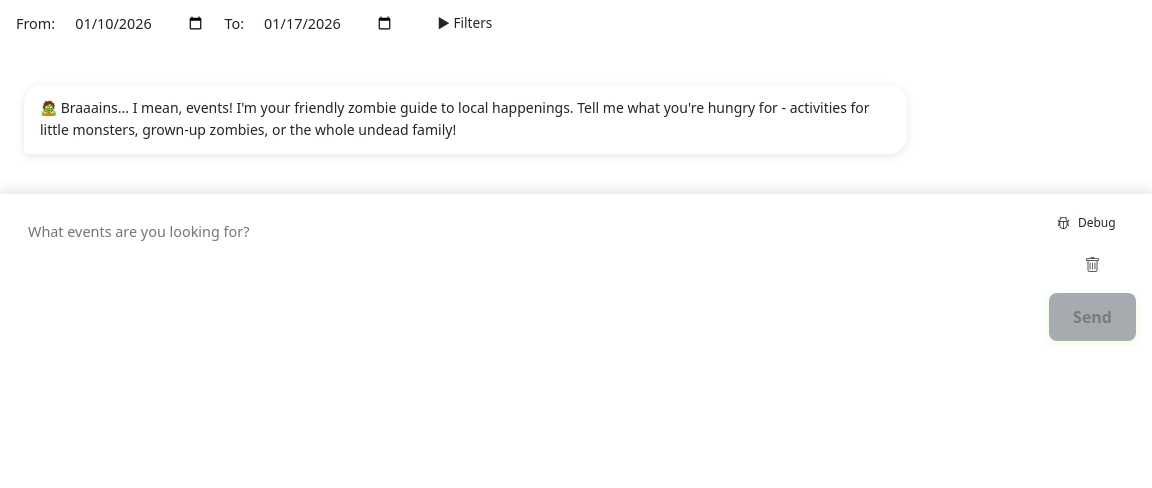
it: ChatInterface streaming fallback › shows error message when streaming fails
The width and height of the screenshot is (1152, 488).
Step 1. Type "hello" into the text box named "Message input" → [527, 275], box [16,210,1037,341]
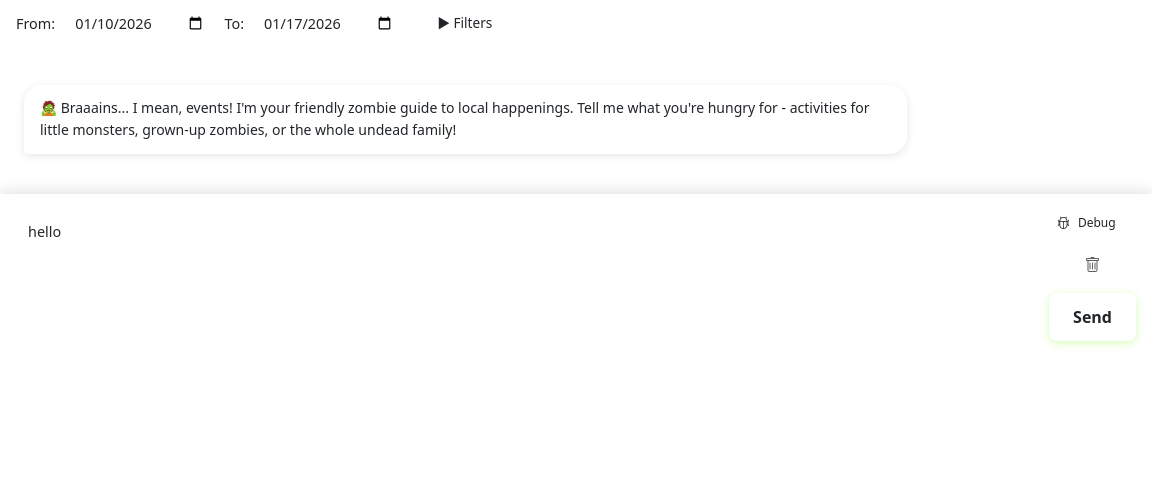
Step 2. Press Enter in the text box named "Message input", box [16,210,1037,341]
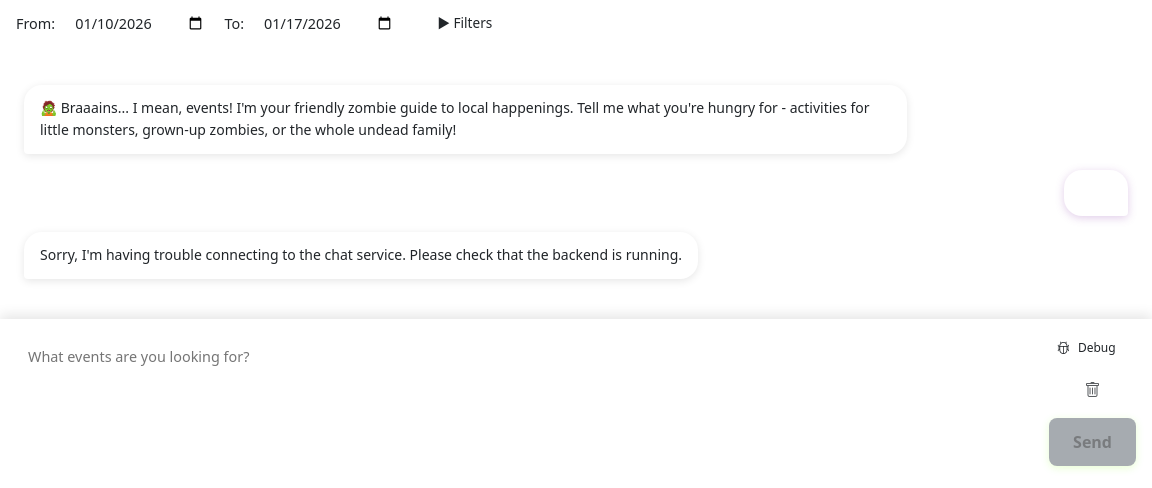
expect the text "having trouble connecting to the chat service" is shown: met, box [40,245,682,264]
